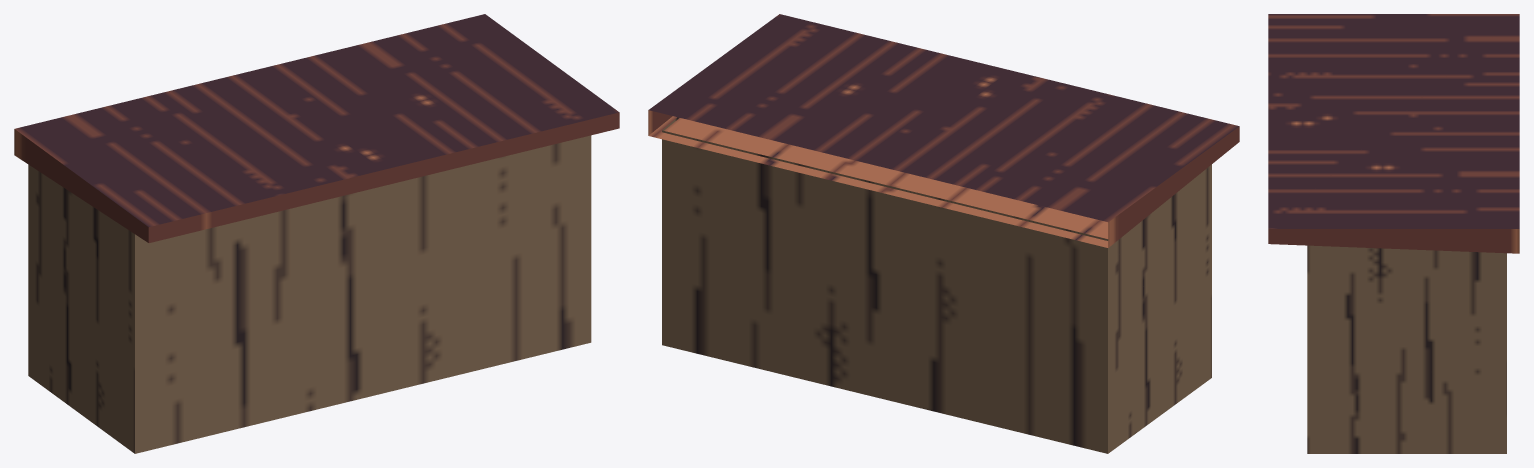
File: GabineteVelho.fbx
3 renders of one model, left to right at view 1: azimuth 30°, elevation 25°; view 2: azimuth 150°, elevation 25°; view 3: azimuth 270°, elevation 25°, orthographic. The views are drawn at different scales.
Parts seen in each view (by area): view 1: GabineteVelho; view 2: GabineteVelho; view 3: GabineteVelho.
Part boxes in pixels (x1,y1,x2,y2): GabineteVelho: (14,14,619,453); GabineteVelho: (648,14,1239,453); GabineteVelho: (1268,14,1519,453).
Size of the model in its own units: 188 by 93.07 by 93.16.
